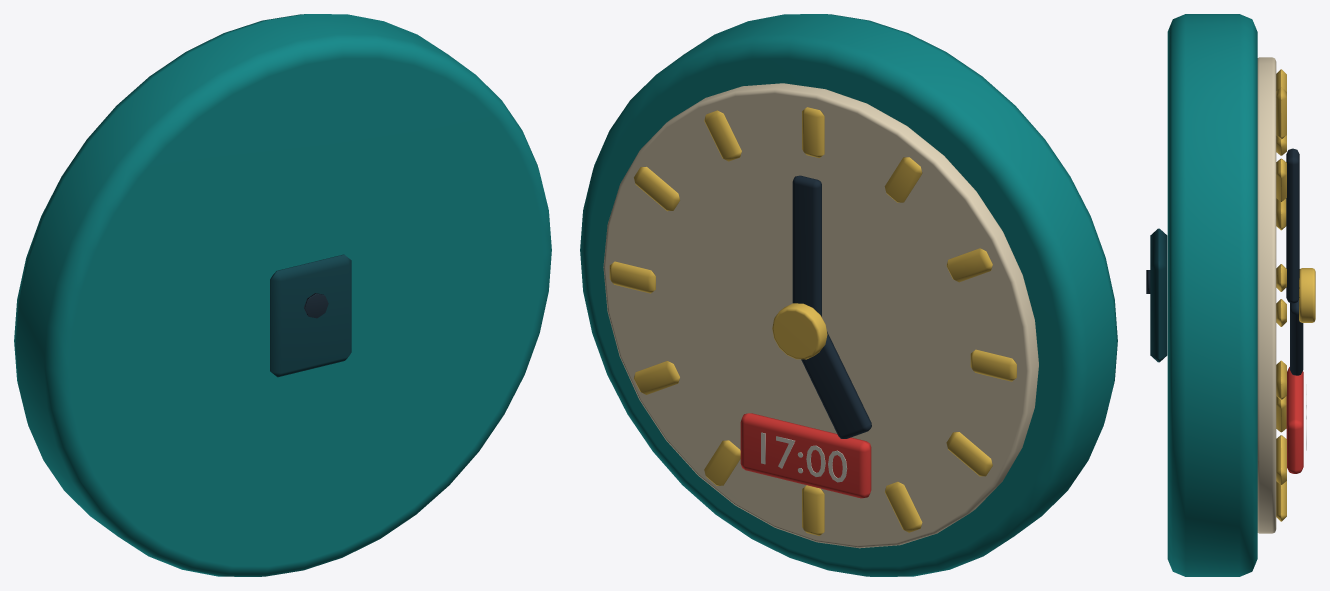
The model's file is clock.glb.
3 views of the same model, side by side, from view 1: azimuth 30°, elevation 25°; view 2: azimuth 150°, elevation 25°; view 3: azimuth 270°, elevation 25° (orthographic). The views are drawn at different scales.
Parts seen in each view (by area): view 1: Clock_Geometry; view 2: Clock_Geometry; view 3: Clock_Geometry.
Part boxes in pixels (x1,y1,x2,y2): Clock_Geometry: (14,14,551,576); Clock_Geometry: (580,14,1117,576); Clock_Geometry: (1146,14,1315,576).
Bounding box in the file's own units: 1.5 × 1.5 × 0.45.
